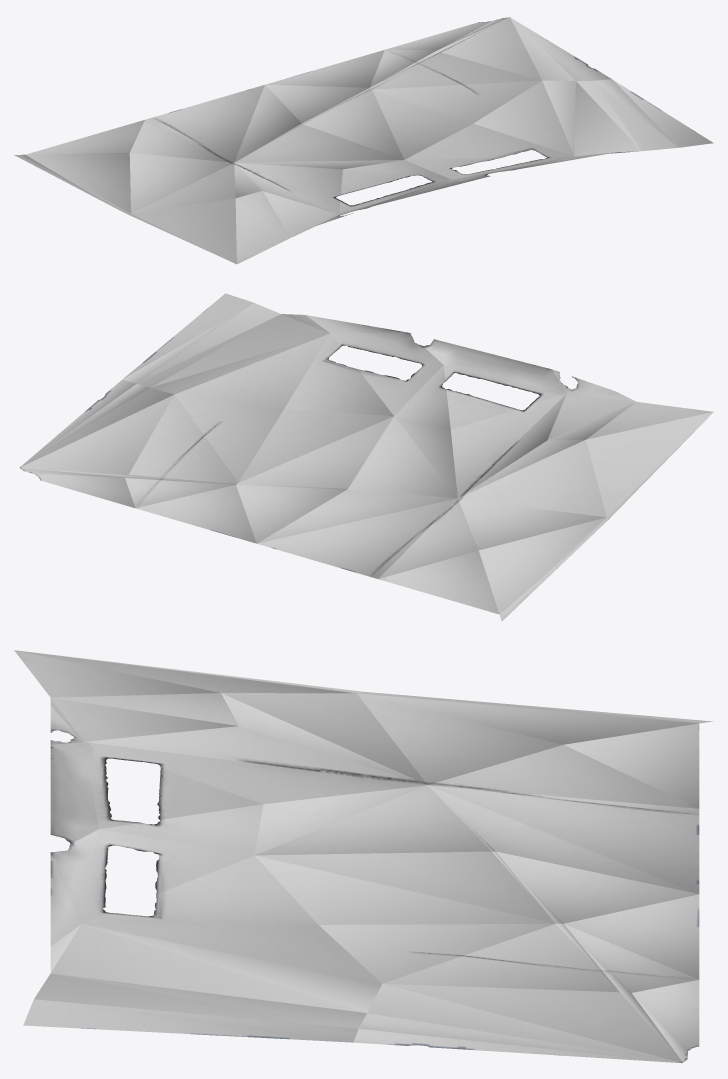
The model's file is SM_AbandonedCar_Hood_Broken.fbx.
The picture shows the model from 3 angles, top to bottom: view 1: azimuth 30°, elevation 25°; view 2: azimuth 150°, elevation 25°; view 3: azimuth 270°, elevation 25°; orthographic projection. The views are drawn at different scales.
Parts seen in each view (by area): view 1: SM_AbandonedCar_Hood_Broken; view 2: SM_AbandonedCar_Hood_Broken; view 3: SM_AbandonedCar_Hood_Broken.
Part boxes in pixels (box(x1,y1,x2,y2)): SM_AbandonedCar_Hood_Broken: box(14, 17, 713, 264); SM_AbandonedCar_Hood_Broken: box(19, 293, 713, 621); SM_AbandonedCar_Hood_Broken: box(14, 650, 713, 1063).
Size of the model in its own units: 139 by 17.16 by 107.
